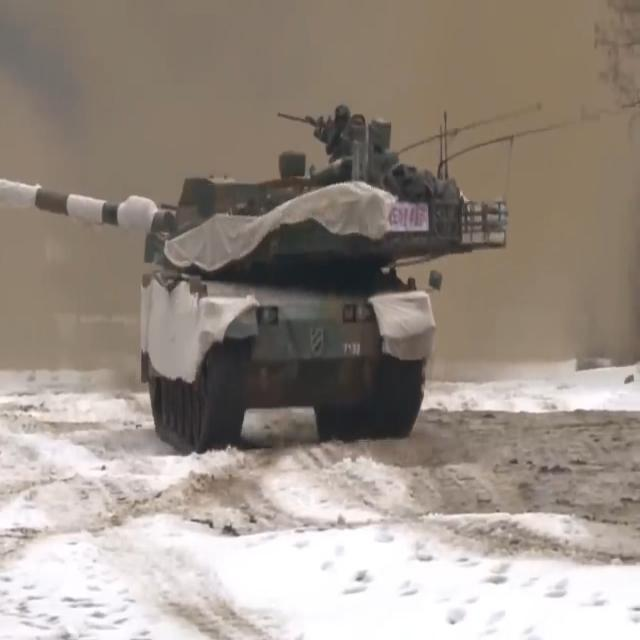korea tank: (0, 105, 508, 456)
